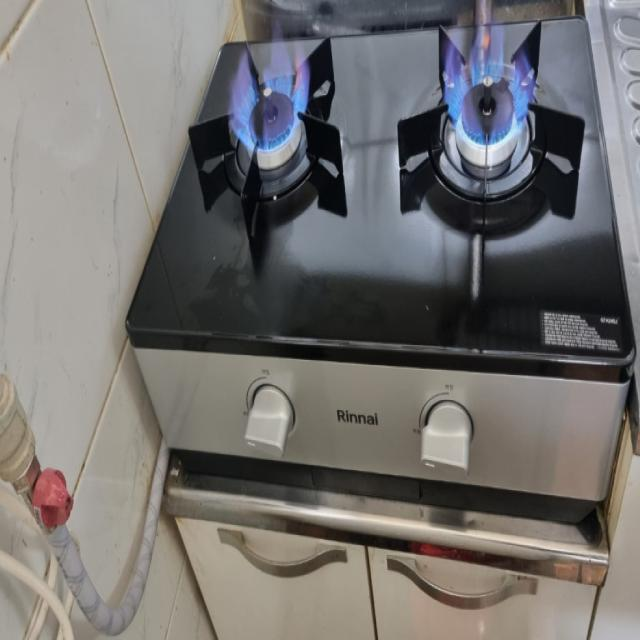knob_ON: (376, 10, 612, 284), (164, 38, 362, 266)
